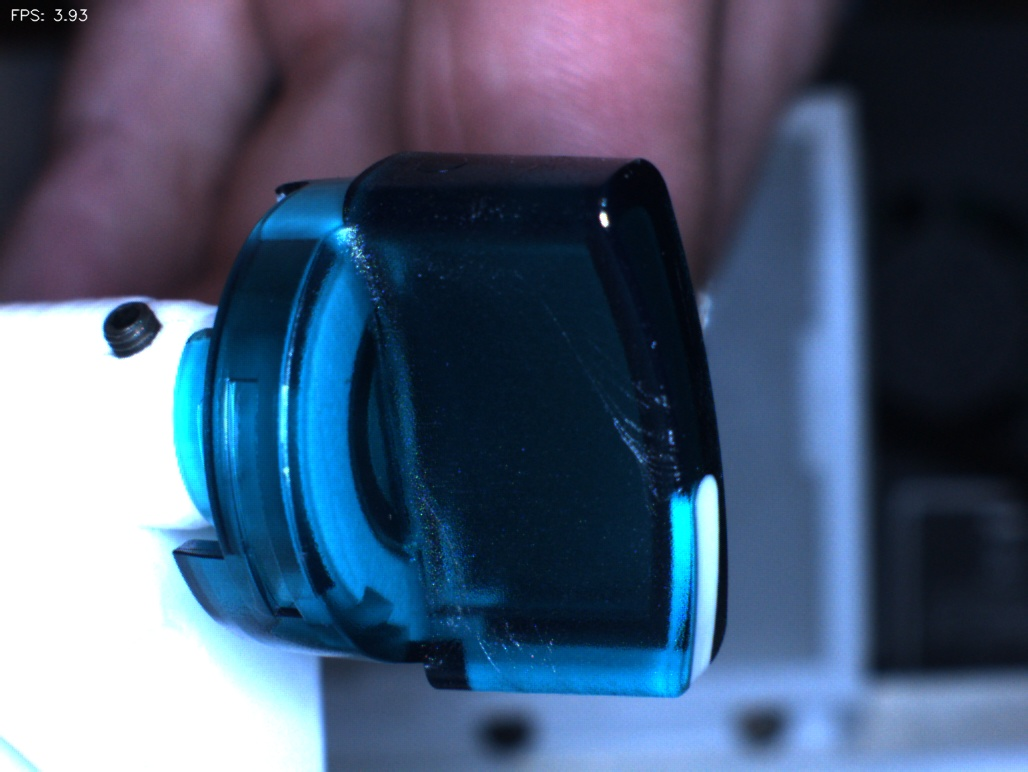Givrage: (466, 608, 561, 682)
